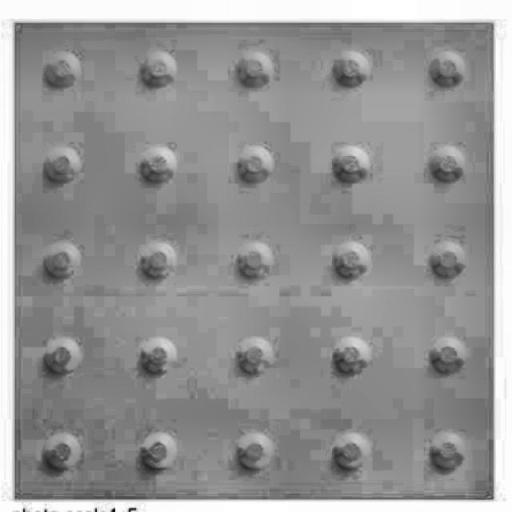dot: (19, 23, 490, 499)
